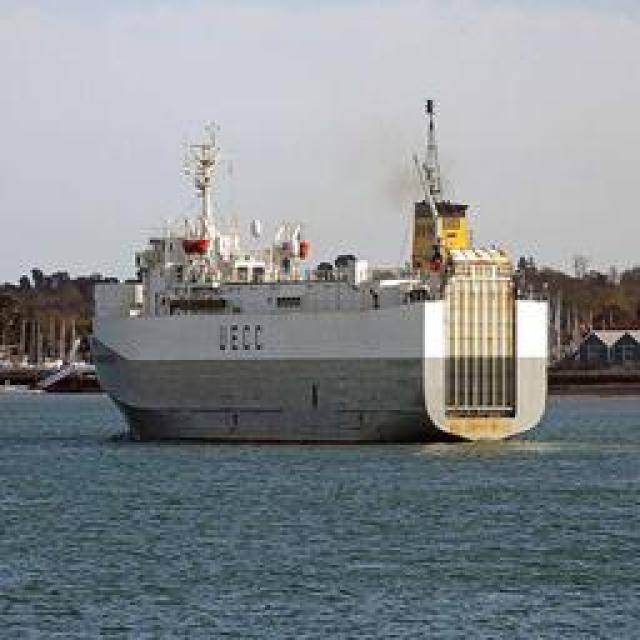Ship: (91, 107, 546, 450)
